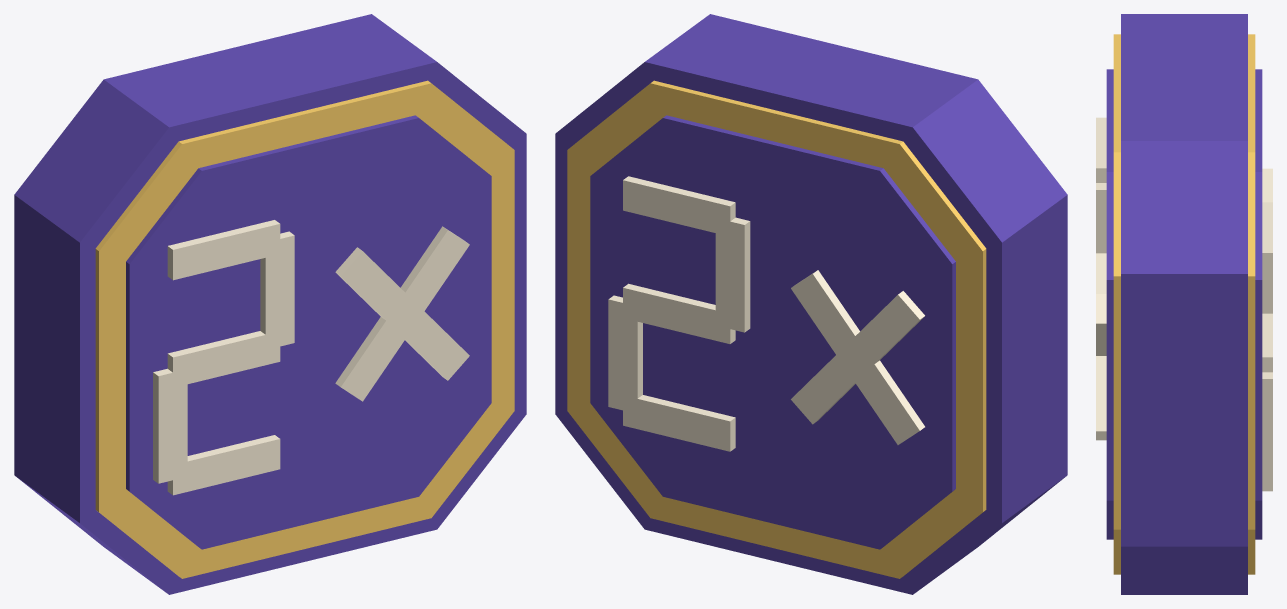
File: powerup-double-score.glb
The picture shows the model from 3 angles, left to right: view 1: azimuth 30°, elevation 25°; view 2: azimuth 150°, elevation 25°; view 3: azimuth 270°, elevation 25°; orthographic projection. The views are drawn at different scales.
Parts seen in each view (by area): view 1: powerup_double_score; view 2: powerup_double_score; view 3: powerup_double_score.
Boxes of the visible parts, <box> form: powerup_double_score: <box>14,14,526,594</box>; powerup_double_score: <box>555,14,1067,594</box>; powerup_double_score: <box>1096,14,1272,594</box>.
Bounding box in the file's own units: 0.85 × 0.85 × 0.3.
